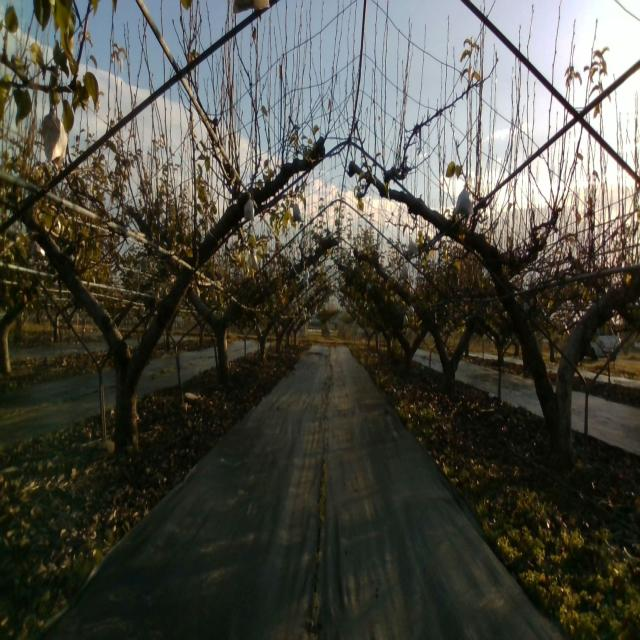pearbags: (41, 106, 69, 171), (451, 188, 475, 218), (243, 190, 255, 222), (407, 236, 419, 258), (291, 203, 303, 223)
